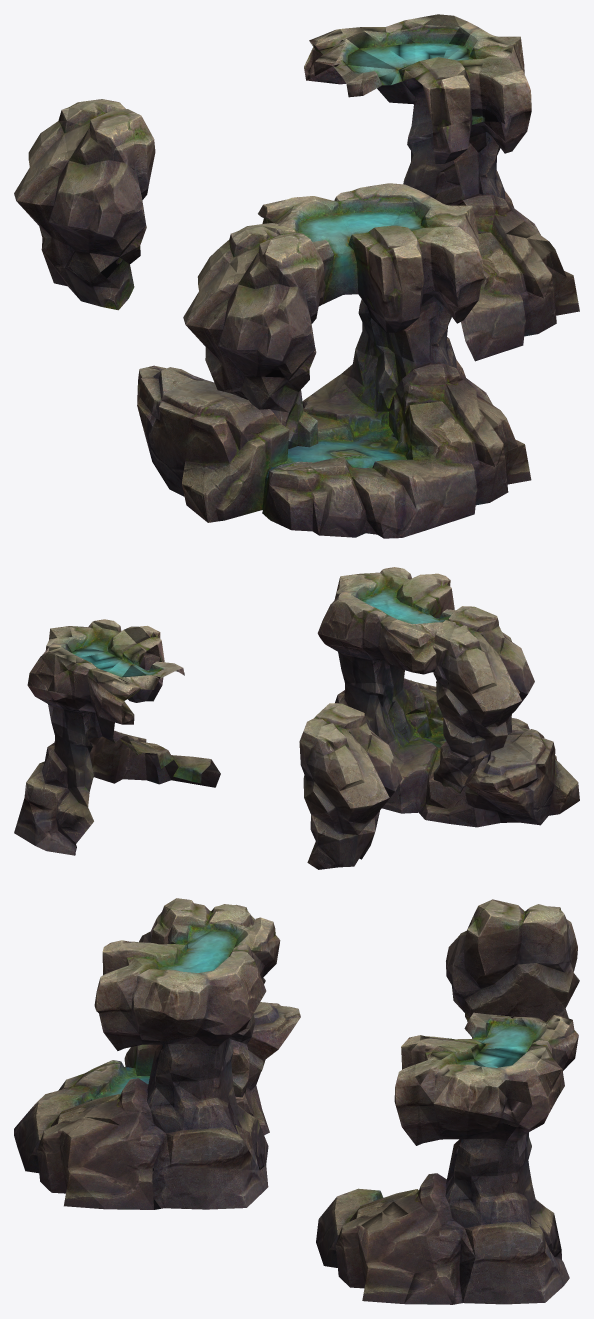
File: f_1112_stone.FBX
3 renders of one model, top to bottom at view 1: azimuth 30°, elevation 25°; view 2: azimuth 150°, elevation 25°; view 3: azimuth 270°, elevation 25°, orthographic. The views are drawn at different scales.
Parts seen in each view (by area): view 1: f_1112_stone02, f_1112_stone004, f_1112_stone003, f_1112_stone01; view 2: f_1112_stone02, f_1112_stone004, f_1112_stone01, f_1112_stone003; view 3: f_1112_stone02, f_1112_stone004, f_1112_stone003, f_1112_stone01.
Boxes of the visible parts, box(x1,y1,x2,y2) form: f_1112_stone02: box(137, 183, 531, 538); f_1112_stone004: box(304, 14, 579, 361); f_1112_stone003: box(14, 99, 155, 310); f_1112_stone01: box(183, 223, 324, 448); f_1112_stone02: box(317, 567, 579, 827); f_1112_stone004: box(14, 619, 220, 855); f_1112_stone01: box(433, 606, 534, 793); f_1112_stone003: box(299, 703, 402, 869); f_1112_stone02: box(14, 917, 300, 1209); f_1112_stone004: box(316, 1012, 578, 1304); f_1112_stone003: box(446, 899, 579, 1038); f_1112_stone01: box(139, 898, 265, 1097).
Size of the model in its own units: 258 by 115 by 268.
